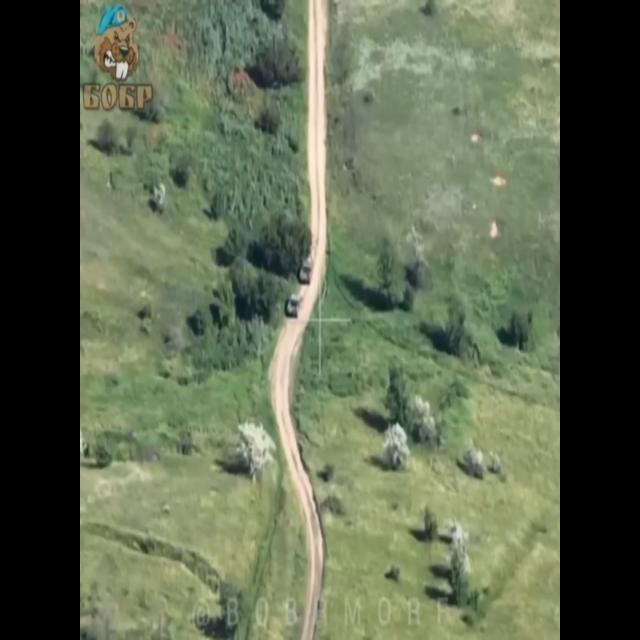cars: (286, 293, 301, 317), (299, 258, 314, 282)
